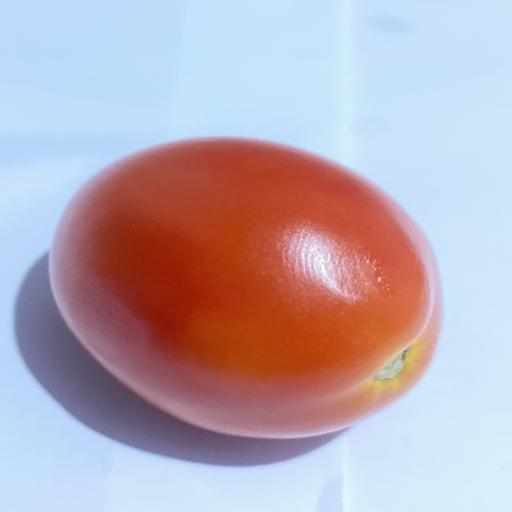ripe: (50, 137, 441, 438)
